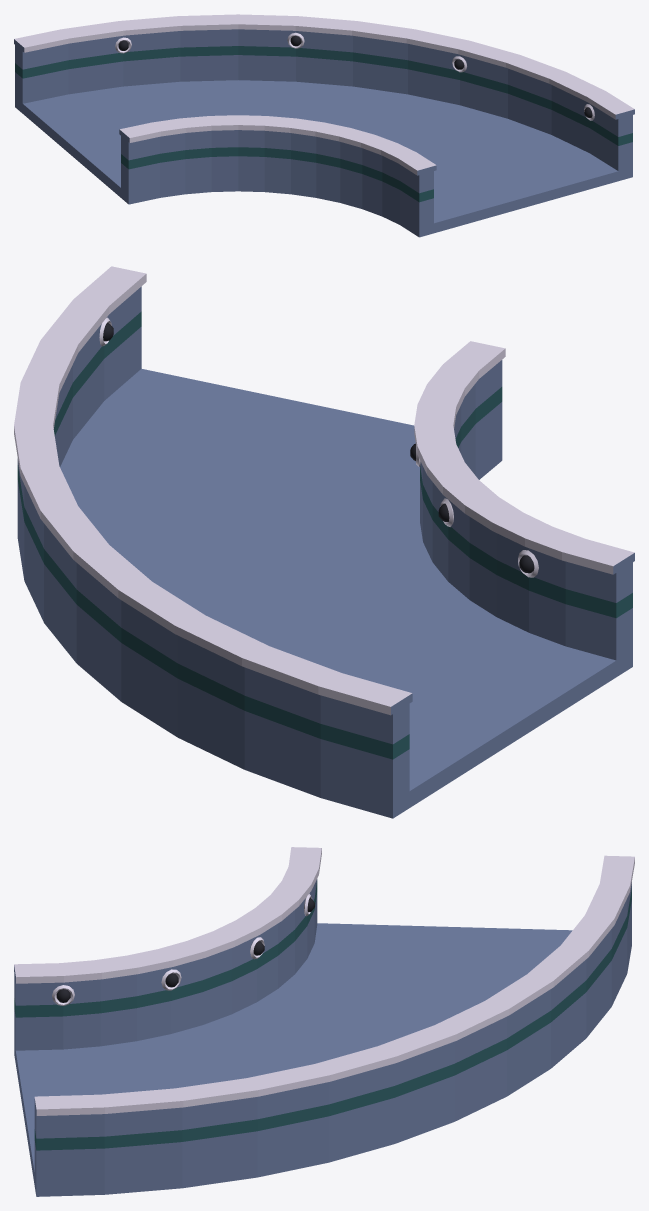
The model's file is W1_Canal_Curve90.fbx.
3 renders of one model, top to bottom at view 1: azimuth 30°, elevation 25°; view 2: azimuth 150°, elevation 25°; view 3: azimuth 270°, elevation 25°, orthographic. The views are drawn at different scales.
Parts seen in each view (by area): view 1: W1_Canal_Curve90; view 2: W1_Canal_Curve90; view 3: W1_Canal_Curve90.
Boxes of the visible parts, x1,y1,x2,y2 form: W1_Canal_Curve90: (14,14,634,237); W1_Canal_Curve90: (14,266,634,818); W1_Canal_Curve90: (14,847,634,1196).
Size of the model in its own units: 21.27 by 3.35 by 21.27.
